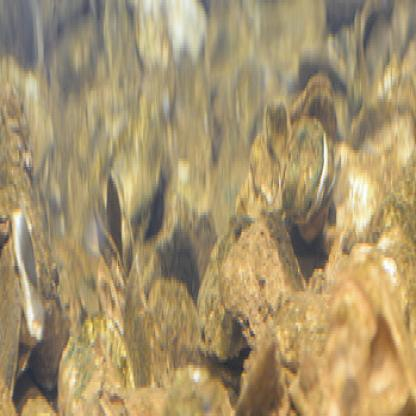Oyster- Indeterminate: (283, 113, 329, 222), (290, 77, 339, 135)
Oyster-Closed: (219, 212, 311, 344), (197, 217, 253, 361), (56, 321, 132, 416), (65, 373, 232, 416), (147, 276, 198, 377), (232, 334, 288, 416), (124, 263, 153, 388), (0, 236, 20, 389)
Oyster-Open: (11, 210, 51, 344), (96, 174, 134, 287)
